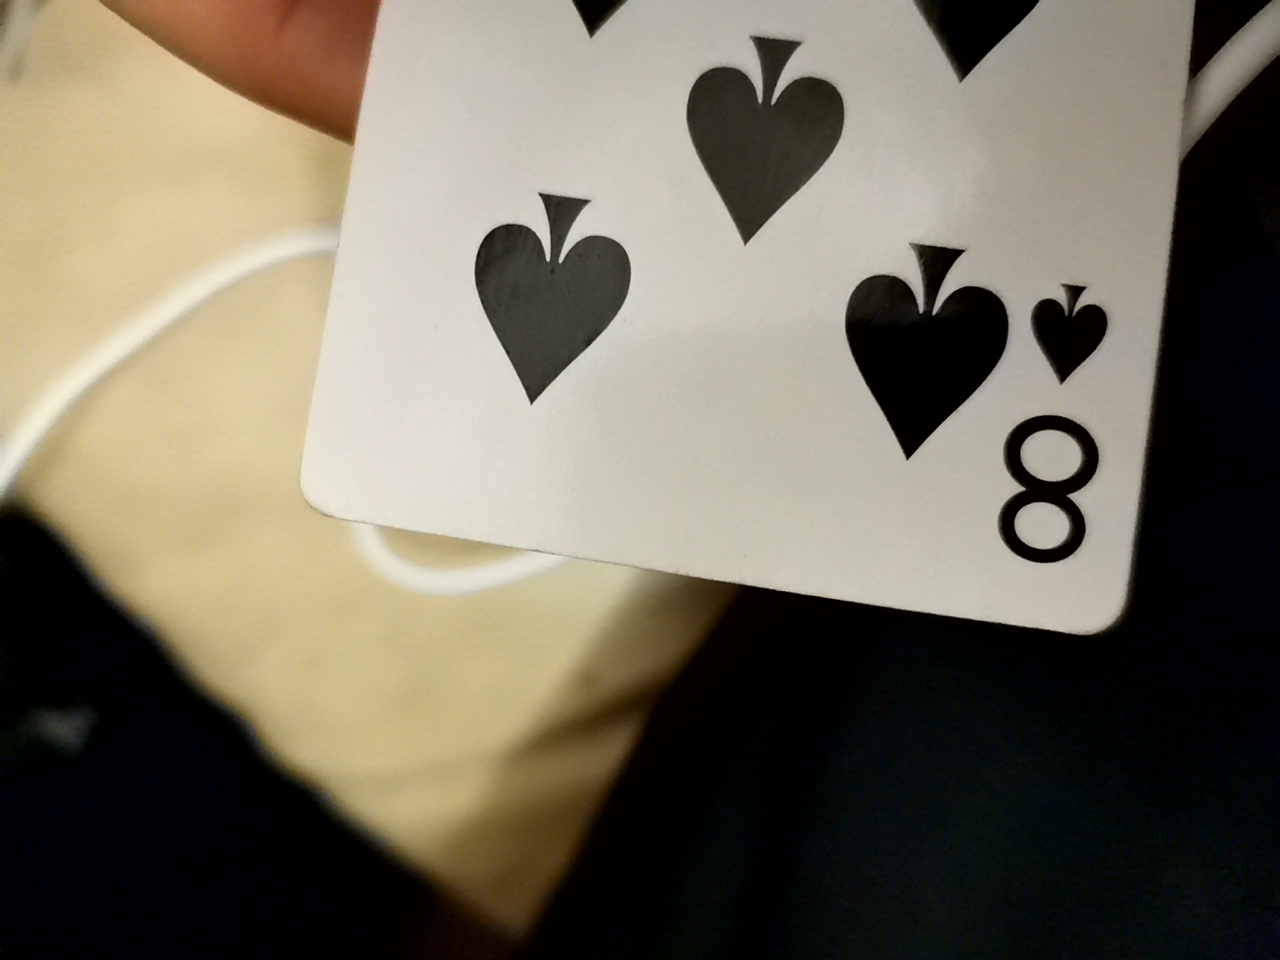ht 8: (280, 6, 1258, 686)
